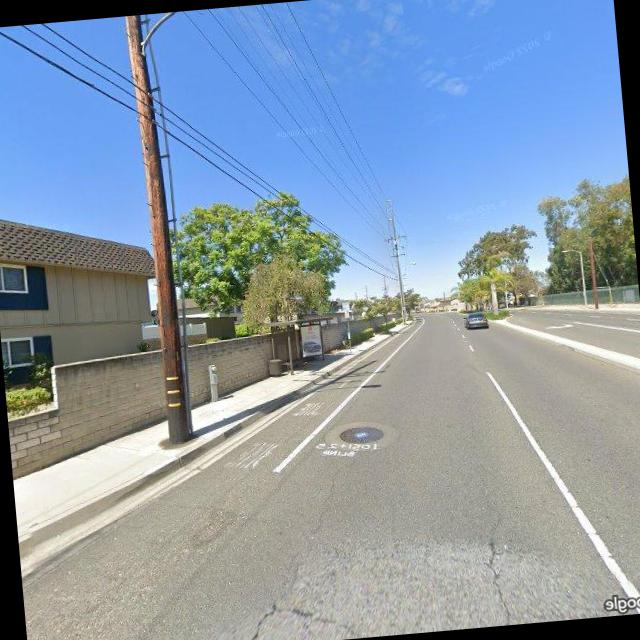crack: (241, 458, 356, 640), (478, 524, 519, 625)
